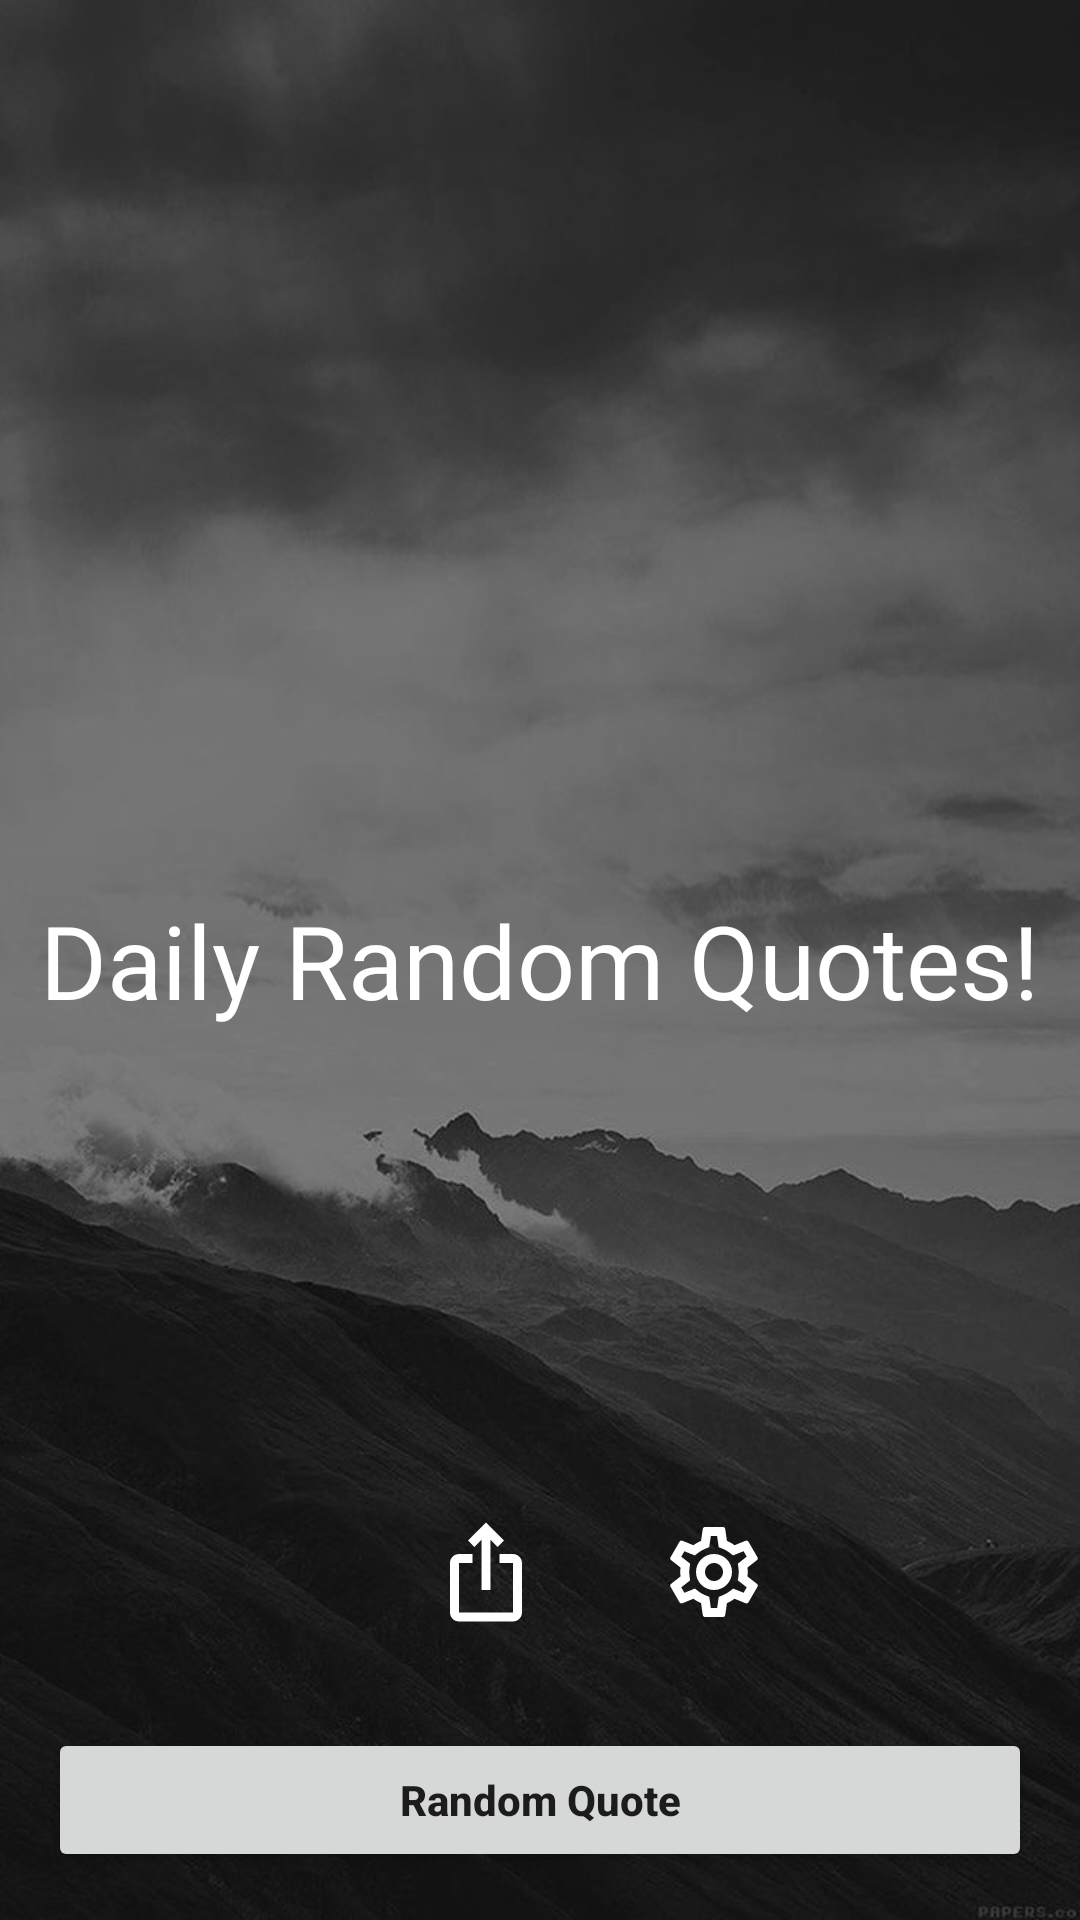

Where to tap for icons on this 1080x1920 app screen, as [x,y]:
settings: [714,1572]
share: [486,1572]
